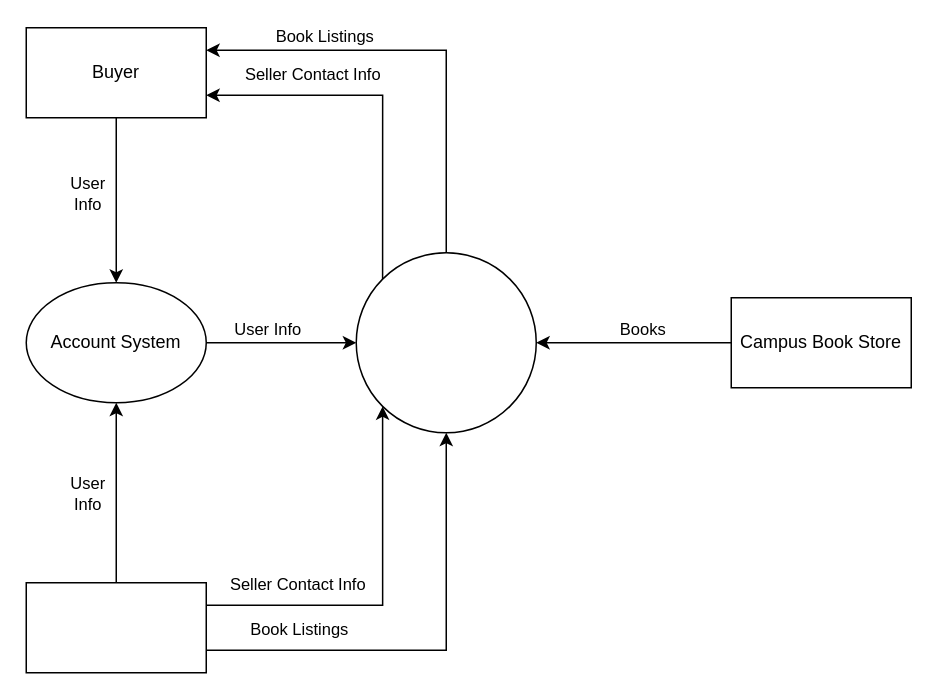
Image size: 938x699. Some labels were removed from this diagram. Here are the shapes that lost their labels. From the top down, the centre of each, then its label:
point (445, 342): Book System
point (115, 627): Seller
